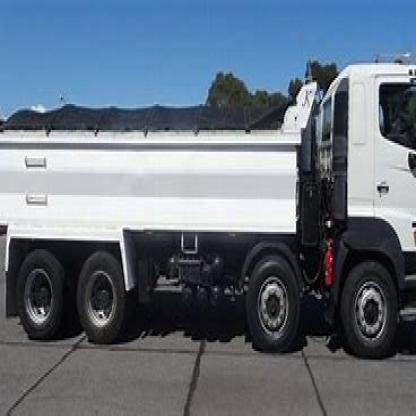dump_truck: (10, 56, 415, 360)
